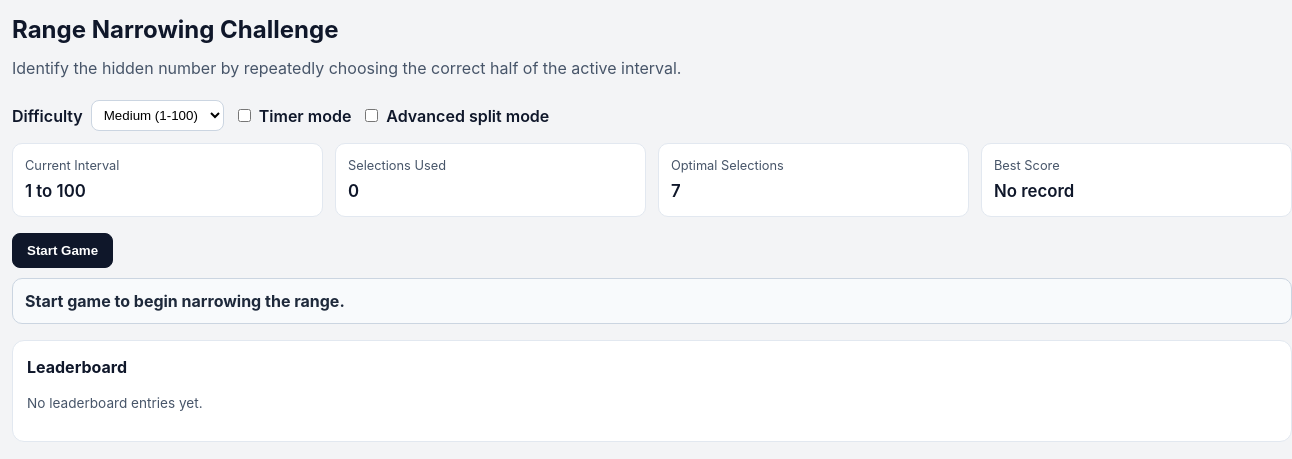
Test: RangeNarrowingPage › enters playing state after starting game
The width and height of the screenshot is (1292, 459).
Click the button "Start Game" at [63, 251], box [12, 233, 113, 268]
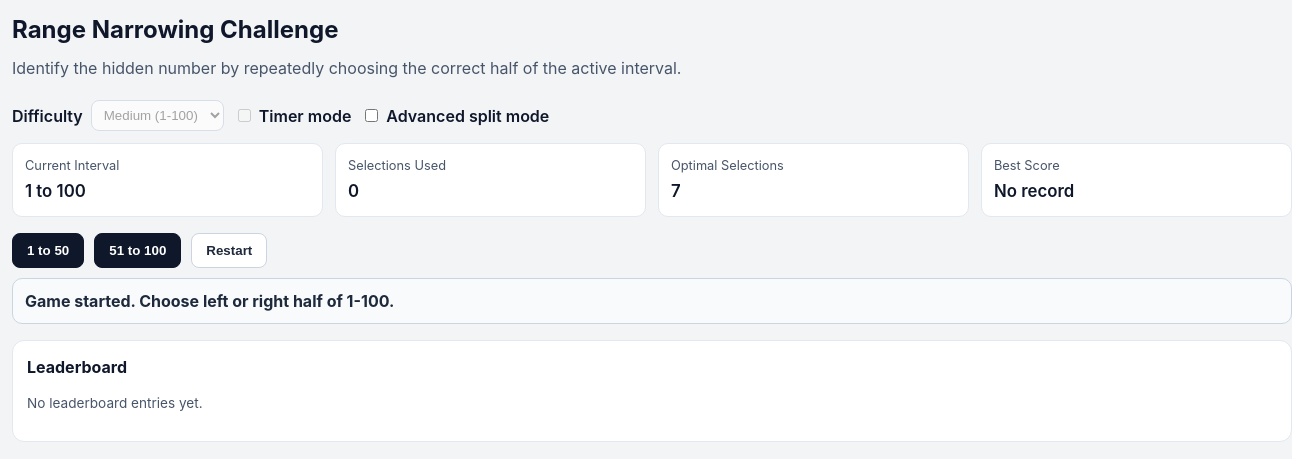
Expected: the button "1 to 50" is shown, [12, 233, 84, 268]
Expected: the button "51 to 100" is shown, [94, 233, 181, 268]
Expected: the text "Game started. Choose left or right half of 1-100." is shown, [12, 278, 1291, 324]
